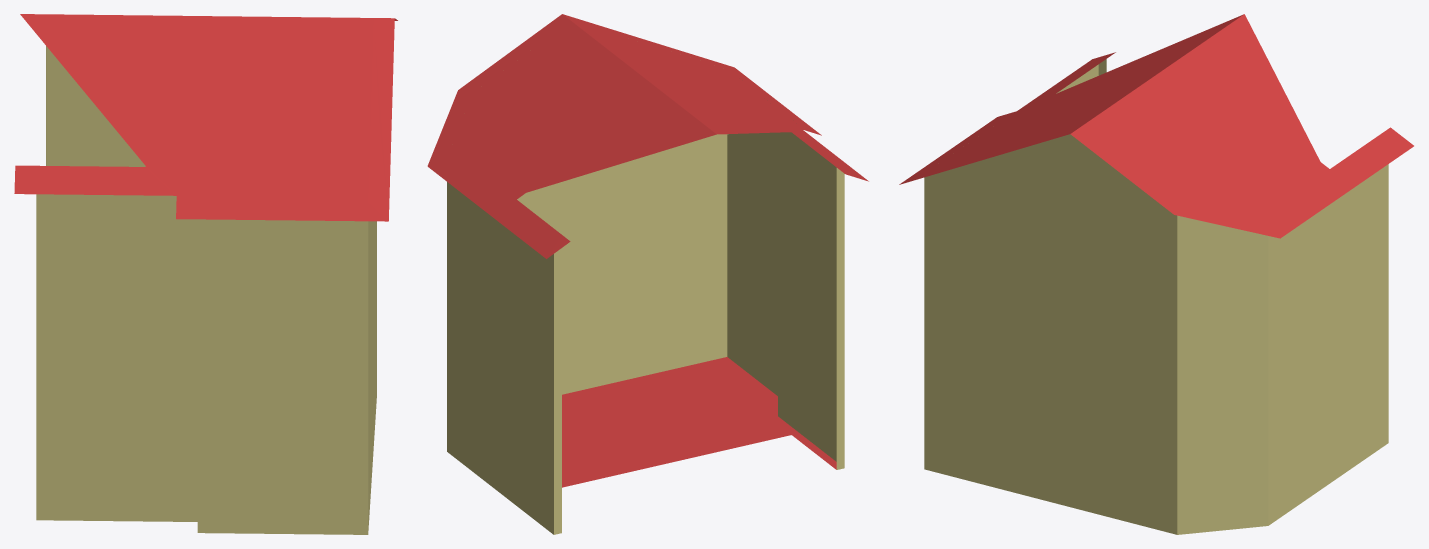
3 views of the same model, side by side, from view 1: azimuth 30°, elevation 25°; view 2: azimuth 150°, elevation 25°; view 3: azimuth 270°, elevation 25° (orthographic). The views are drawn at different scales.
Size of the model in its own units: 11.73 by 13.72 by 11.21.
